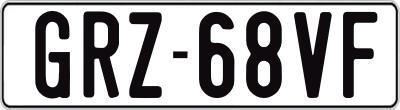6: (197, 11, 236, 99)
8: (246, 8, 285, 100)
F: (343, 12, 379, 100)
G: (34, 9, 70, 100)
R: (84, 11, 121, 98)
V: (292, 12, 330, 100)
Z: (128, 9, 164, 101)
